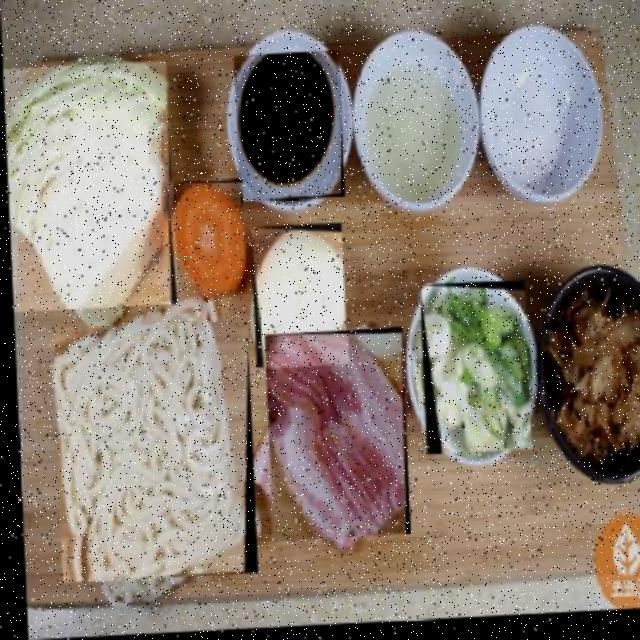Bacon: (261, 332, 407, 546)
Cabbage: (2, 63, 176, 314)
Carrot: (165, 182, 246, 302)
Noodles: (48, 322, 255, 584)
Onion: (248, 228, 346, 372)
Onion Leaves: (417, 285, 529, 461)
Soy Sauce: (233, 55, 344, 207)
